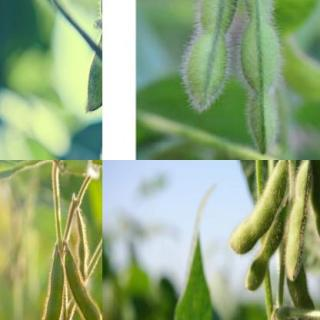soya: (182, 0, 248, 112), (242, 0, 282, 154), (230, 160, 288, 255), (284, 160, 311, 283), (245, 224, 283, 293), (66, 248, 102, 319), (33, 258, 65, 319), (83, 24, 102, 114), (286, 281, 319, 319), (309, 160, 319, 250), (77, 210, 88, 278)
